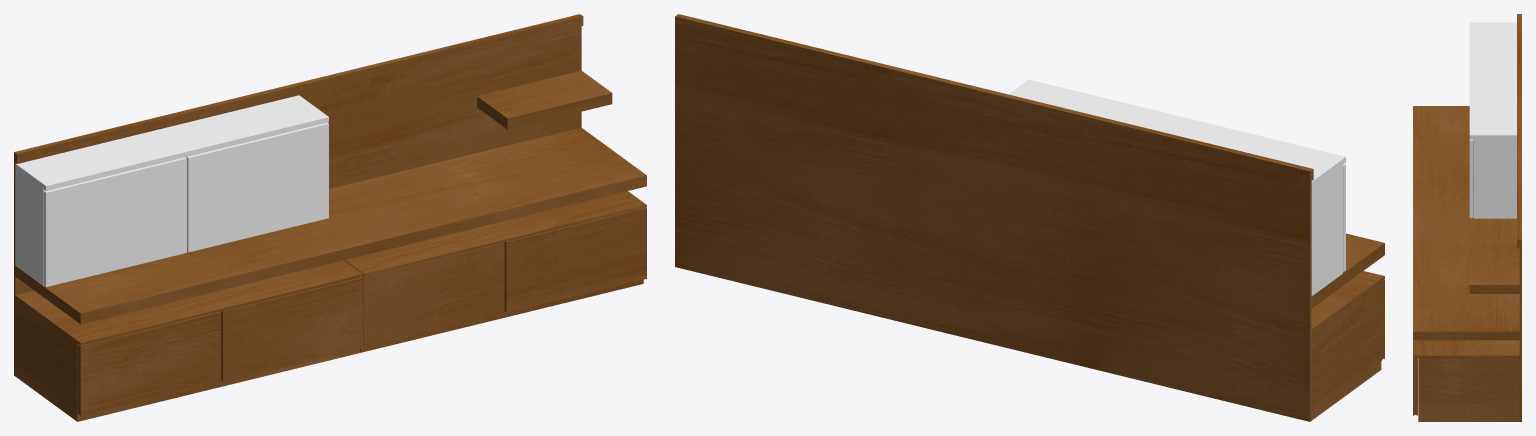
Rendered from living_room_module.glb.
3 views of the same model, side by side, from view 1: azimuth 30°, elevation 25°; view 2: azimuth 150°, elevation 25°; view 3: azimuth 270°, elevation 25° (orthographic). The views are drawn at different scales.
Parts seen in each view (by area): view 1: base_furniture_Cube.006, boxes_Cube.009; view 2: base_furniture_Cube.006, boxes_Cube.009; view 3: base_furniture_Cube.006, boxes_Cube.009.
Part boxes in pixels (x1,y1,x2,y2): base_furniture_Cube.006: (14, 14, 646, 421); boxes_Cube.009: (15, 95, 328, 286); base_furniture_Cube.006: (675, 14, 1384, 421); boxes_Cube.009: (1008, 79, 1345, 295); base_furniture_Cube.006: (1413, 14, 1521, 421); boxes_Cube.009: (1469, 22, 1516, 218).
Size of the model in its own units: 2.69 by 1.02 by 0.5498.
2 materials, 1 textured.
